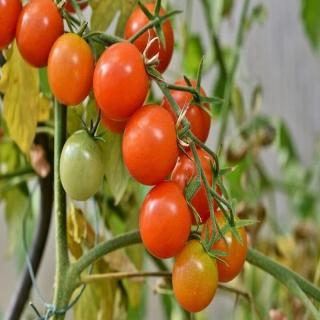Tomat: (123, 104, 180, 187), (94, 41, 151, 122), (140, 180, 193, 260)
